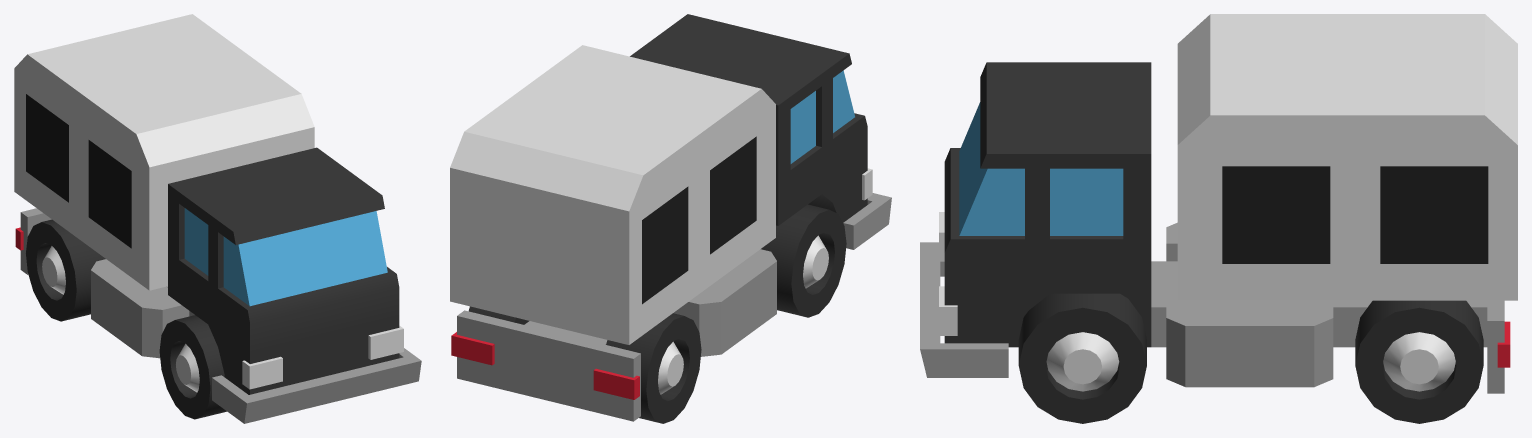
File: truck-prototype-1.glb
3 renders of one model, left to right at view 1: azimuth 30°, elevation 25°; view 2: azimuth 150°, elevation 25°; view 3: azimuth 270°, elevation 25°, orthographic. The views are drawn at different scales.
Visible parts, largest first — view 1: Plane.005, Plane, Plane.001, Plane.006, Circle.001, Circle, Passenger.Compartment.001, Passenger.Compartment.002, Plane.002, Plane.003; view 2: Plane.005, Plane, Plane.003, Circle, Plane.006, Circle.001, Passenger.Compartment.001, Passenger.Compartment.002, Plane.004, Plane.001; view 3: Plane.005, Plane, Plane.006, Circle, Circle.001, Driver.Compartment.001, Driver.Compartment.002, Plane.003, Plane.001, Plane.002.
Part boxes in pixels (x1=…): Plane.005: x1=14, y1=14, x2=314, y2=290; Plane: x1=168, y1=147, x2=399, y2=394; Plane.001: x1=212, y1=348, x2=421, y2=423; Plane.006: x1=91, y1=259, x2=189, y2=358; Circle.001: x1=26, y1=219, x2=105, y2=321; Circle: x1=159, y1=315, x2=226, y2=419; Passenger.Compartment.001: x1=88, y1=140, x2=131, y2=248; Passenger.Compartment.002: x1=26, y1=94, x2=68, y2=202; Plane.002: x1=242, y1=325, x2=403, y2=389; Plane.003: x1=20, y1=208, x2=194, y2=316; Plane.005: x1=450, y1=45, x2=775, y2=344; Plane: x1=630, y1=14, x2=867, y2=225; Plane.003: x1=457, y1=310, x2=640, y2=421; Circle: x1=761, y1=204, x2=846, y2=317; Plane.006: x1=673, y1=249, x2=776, y2=356; Circle.001: x1=468, y1=306, x2=701, y2=423; Passenger.Compartment.001: x1=710, y1=136, x2=756, y2=254; Passenger.Compartment.002: x1=642, y1=186, x2=688, y2=304; Plane.004: x1=451, y1=332, x2=639, y2=399; Plane.001: x1=843, y1=193, x2=891, y2=249; Plane.005: x1=1177, y1=14, x2=1517, y2=300; Plane: x1=944, y1=62, x2=1151, y2=347; Plane.006: x1=1166, y1=222, x2=1333, y2=387; Circle: x1=1018, y1=293, x2=1146, y2=423; Circle.001: x1=1355, y1=300, x2=1483, y2=423; Driver.Compartment.001: x1=1222, y1=166, x2=1330, y2=263; Driver.Compartment.002: x1=1380, y1=166, x2=1488, y2=263; Plane.003: x1=1151, y1=261, x2=1504, y2=393; Plane.001: x1=920, y1=242, x2=1008, y2=377; Plane.002: x1=939, y1=212, x2=957, y2=335.
Bounding box in the file's own units: 2.11 × 2.82 × 4.98.
